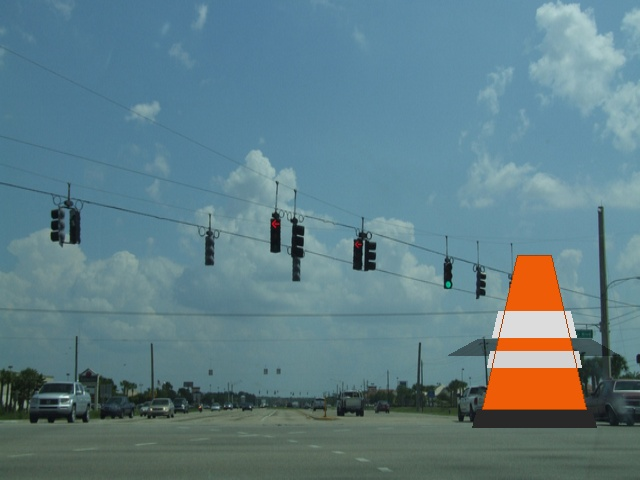traffic-cone: (472, 255, 596, 427)
